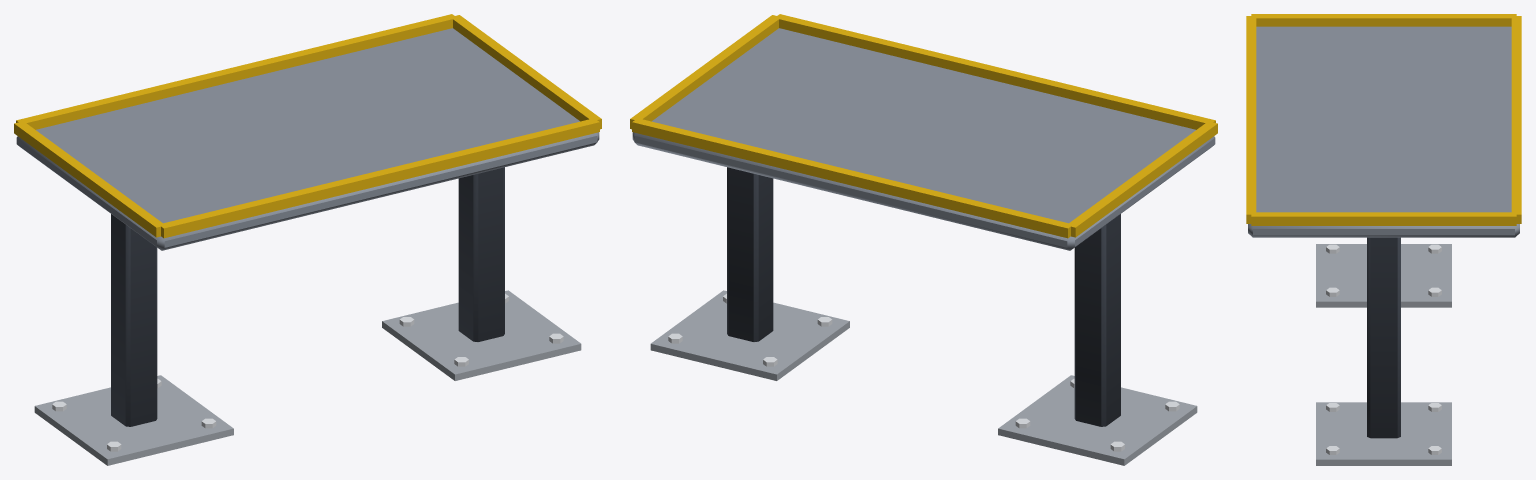
The model's file is table_bolted_table.glb.
3 renders of one model, left to right at view 1: azimuth 30°, elevation 25°; view 2: azimuth 150°, elevation 25°; view 3: azimuth 270°, elevation 25°, orthographic. The views are drawn at different scales.
Visible parts, largest first — view 1: table_bolted_table; view 2: table_bolted_table; view 3: table_bolted_table.
Boxes of the visible parts, x1,y1,x2,y2 form: table_bolted_table: (14, 14, 601, 465); table_bolted_table: (630, 14, 1217, 465); table_bolted_table: (1246, 14, 1521, 465).
Size of the model in its own units: 1.5 by 0.79 by 0.81.
